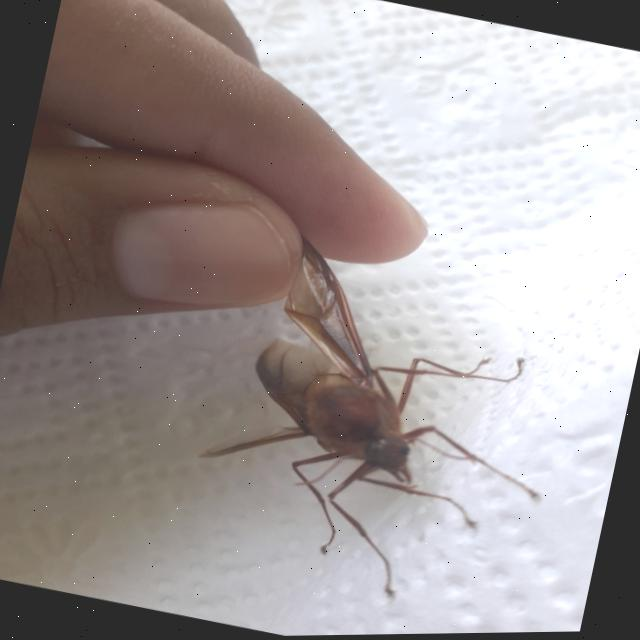Alive-Male-Alate: (175, 216, 585, 629)
